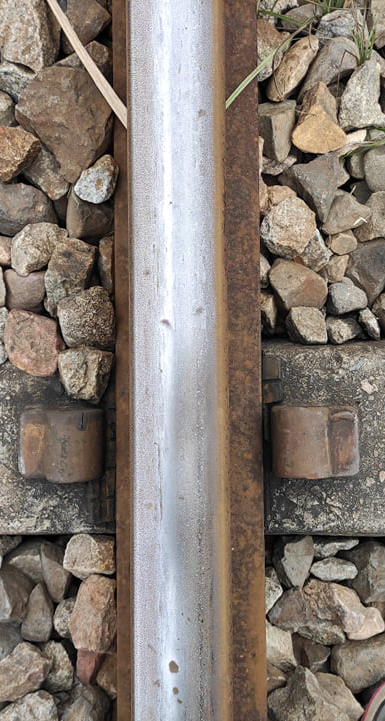loss: (284, 380, 370, 490), (28, 395, 128, 489)
